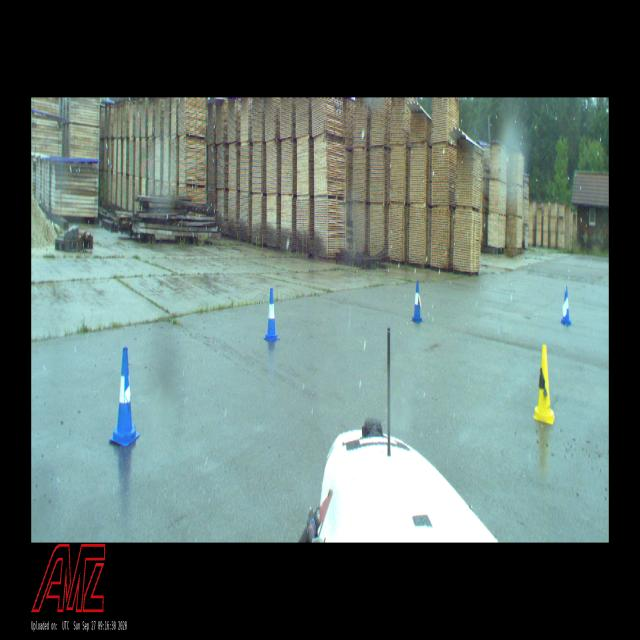blue_cone: (109, 347, 140, 446), (264, 289, 280, 341), (412, 280, 422, 322), (561, 286, 571, 326)
yellow_cone: (534, 345, 555, 424)
